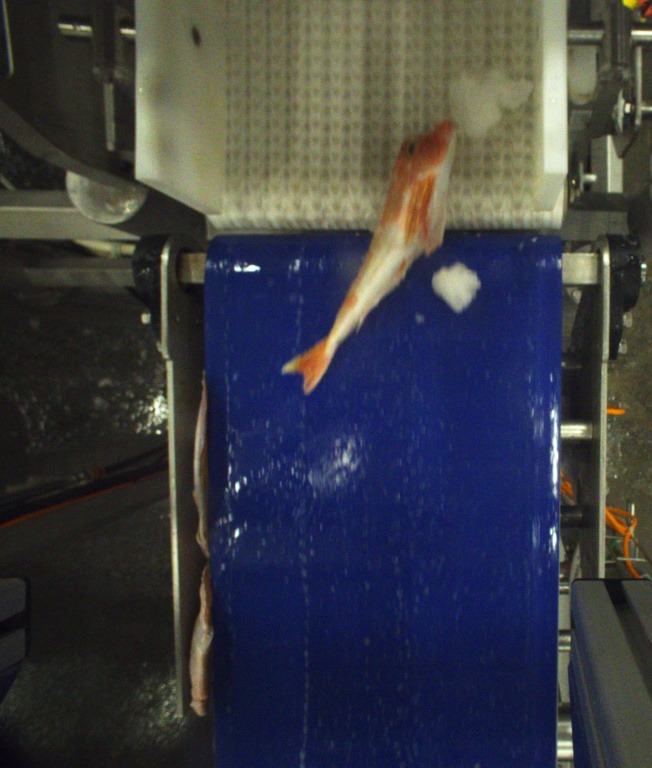GUU: (282, 122, 457, 395)
